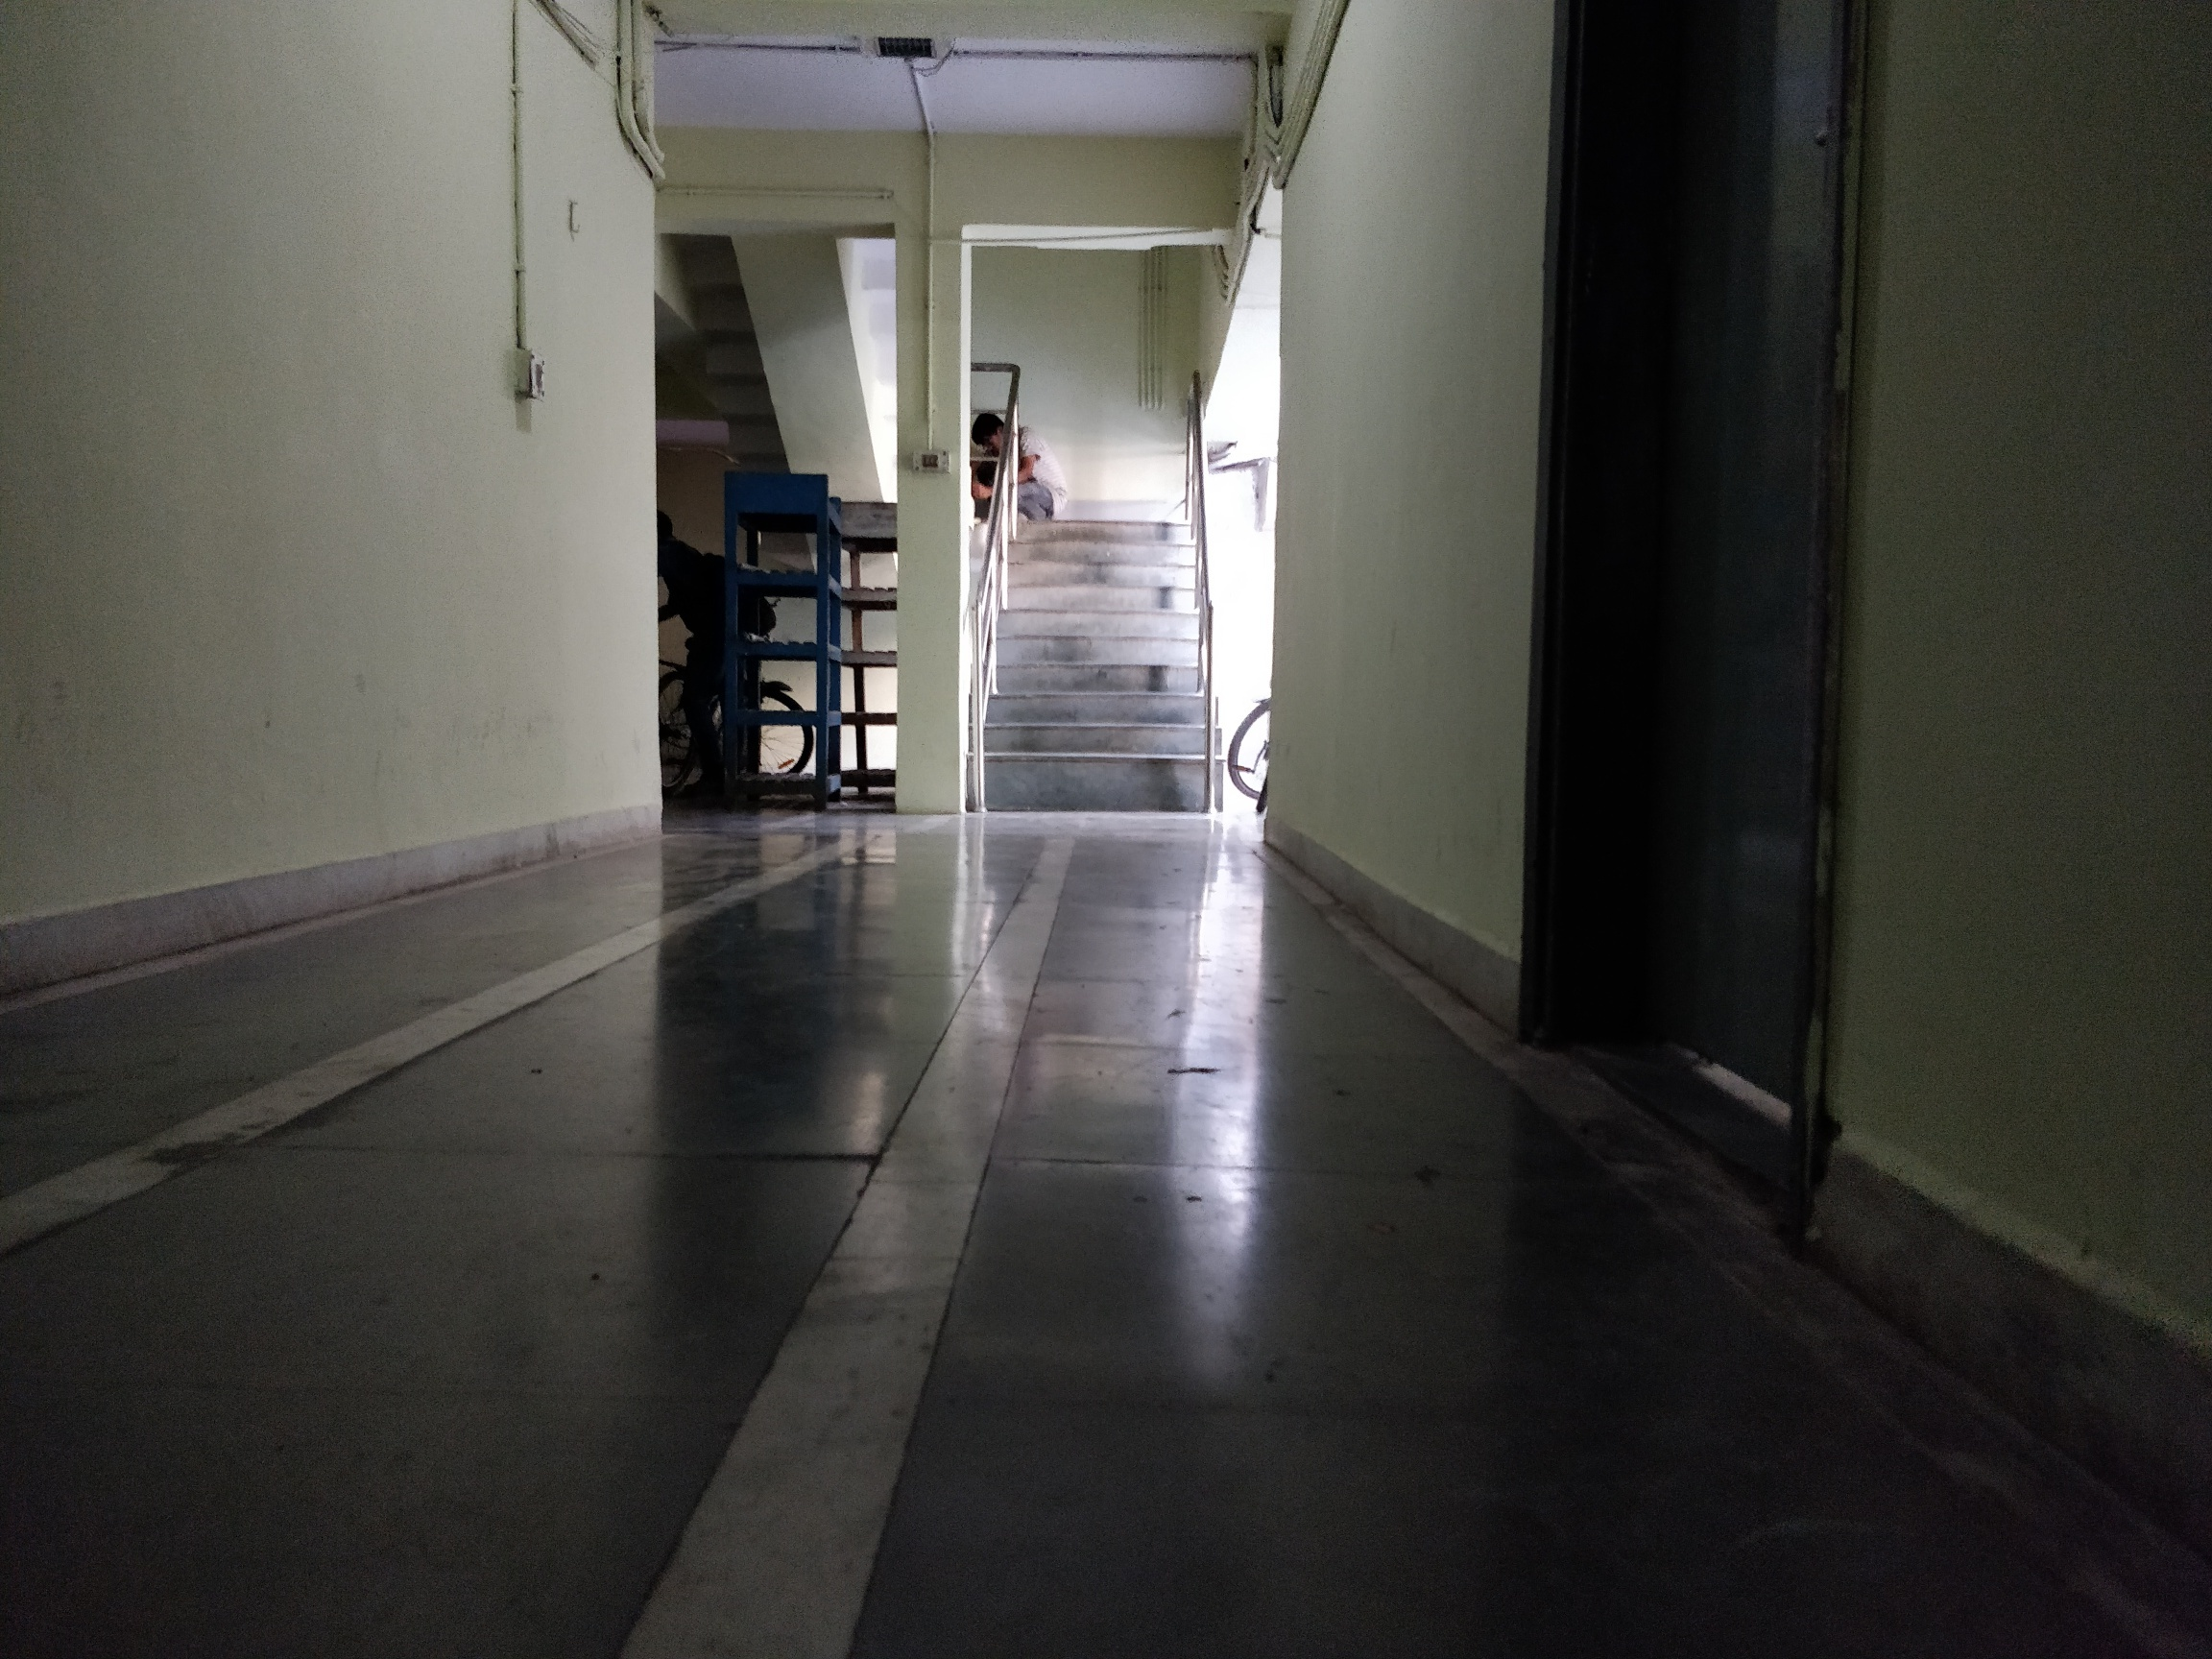stairs_up: (981, 511, 1216, 805)
